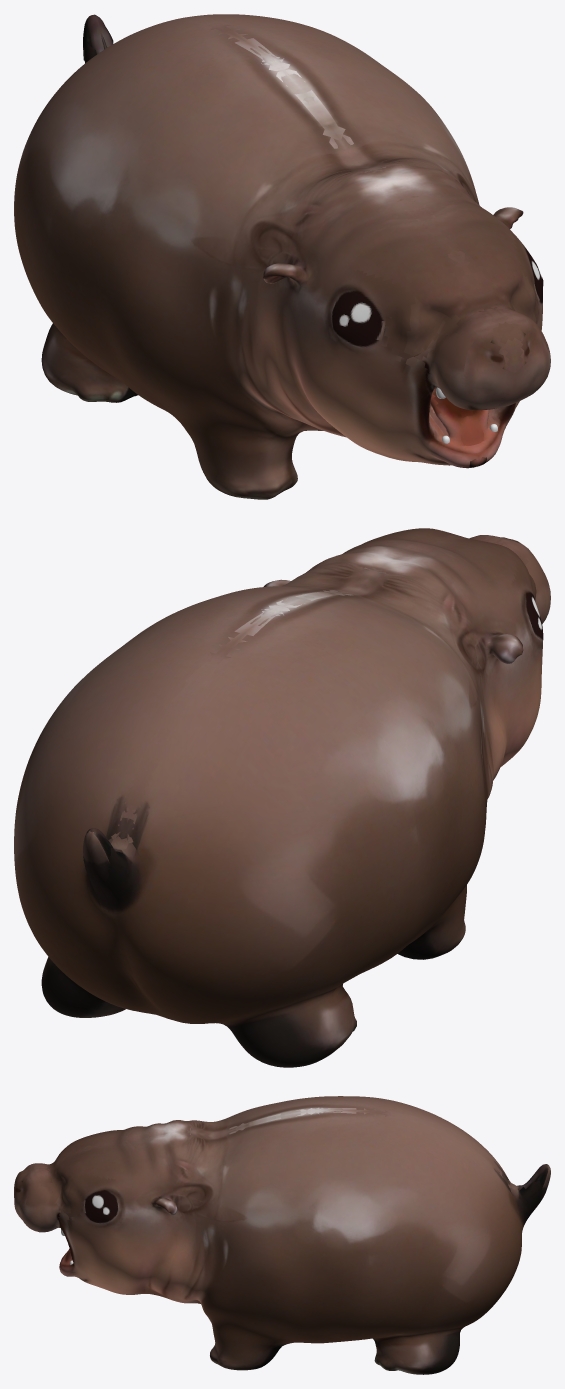
Rendered from moodeng.fbx.
The picture shows the model from 3 angles, top to bottom: view 1: azimuth 30°, elevation 25°; view 2: azimuth 150°, elevation 25°; view 3: azimuth 270°, elevation 25°; orthographic projection. The views are drawn at different scales.
Parts seen in each view (by area): view 1: Mesh_0; view 2: Mesh_0; view 3: Mesh_0.
Part boxes in pixels (x1,y1,x2,y2): Mesh_0: (14, 14, 550, 499); Mesh_0: (14, 528, 550, 1067); Mesh_0: (14, 1096, 550, 1374).
Bounding box in the file's own units: 321 × 297 × 635.
1 material, 1 textured.
